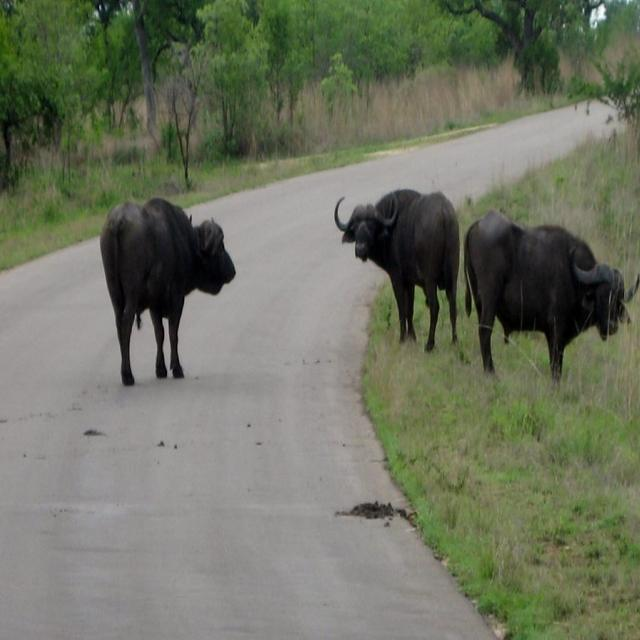Bull: (466, 208, 640, 378), (100, 197, 237, 388), (334, 188, 460, 354)
